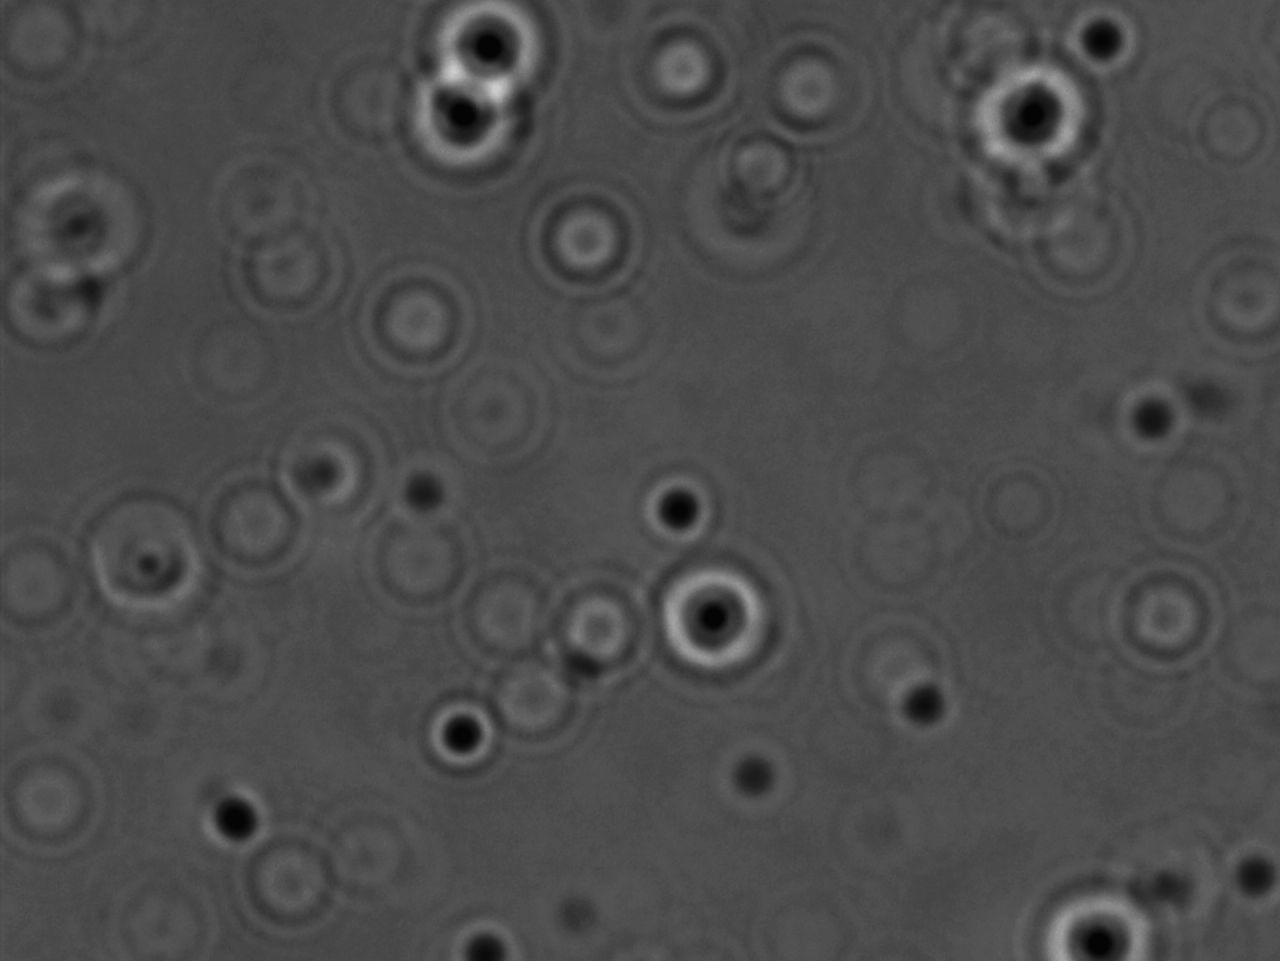depth:-24: (637, 549, 776, 691), (401, 51, 537, 180), (968, 52, 1101, 180)
